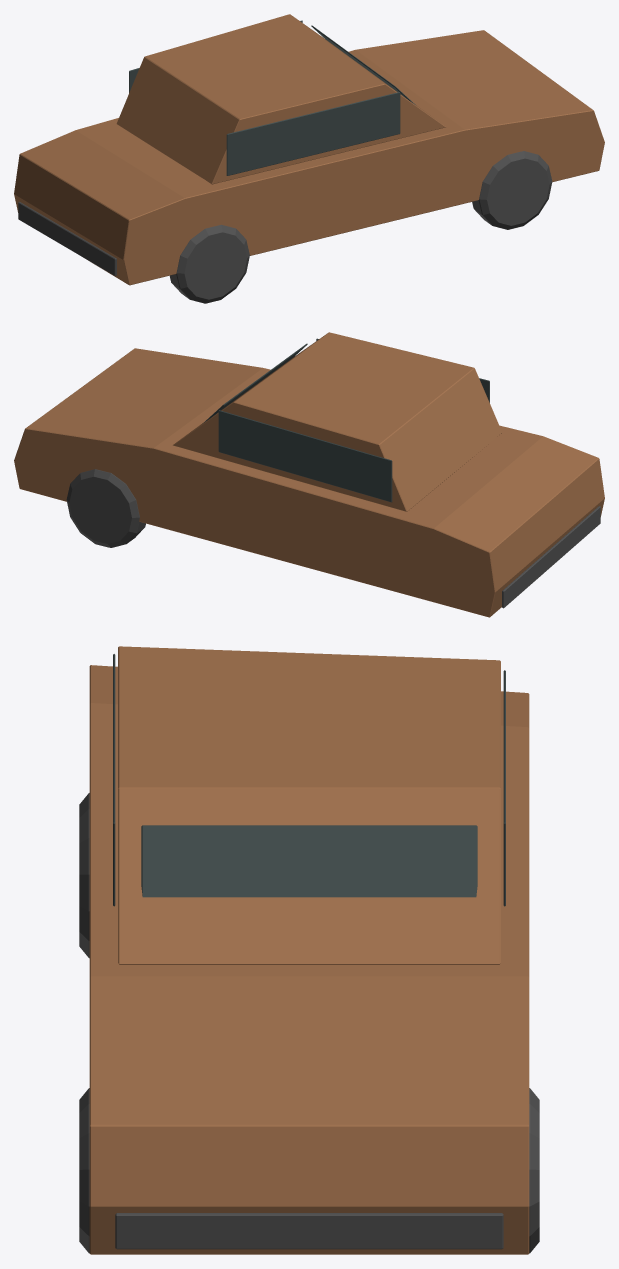
The model's file is SM_DST_Prop_Car_Wreck.fbx.
The picture shows the model from 3 angles, top to bottom: view 1: azimuth 30°, elevation 25°; view 2: azimuth 150°, elevation 25°; view 3: azimuth 270°, elevation 25°; orthographic projection. The views are drawn at different scales.
Visible parts, largest first — view 1: SM_DST_Prop_Car_Wreck.002; view 2: SM_DST_Prop_Car_Wreck.002; view 3: SM_DST_Prop_Car_Wreck.002.
Part boxes in pixels (x1=…): SM_DST_Prop_Car_Wreck.002: x1=14, y1=14, x2=604, y2=303; SM_DST_Prop_Car_Wreck.002: x1=14, y1=332, x2=604, y2=617; SM_DST_Prop_Car_Wreck.002: x1=79, y1=646, x2=539, y2=1254.
Bounding box in the file's own units: 4.34 × 1.44 × 1.78.
